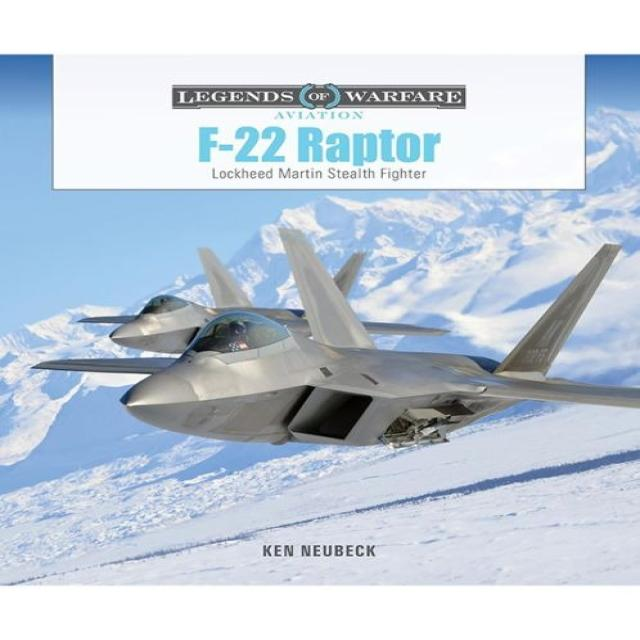F22: (0, 221, 640, 470)
